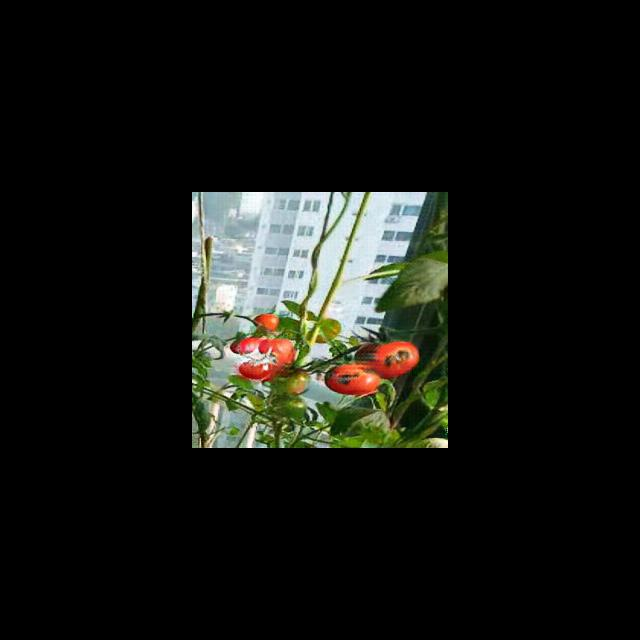tomato: (356, 341, 419, 376), (324, 363, 382, 397)
